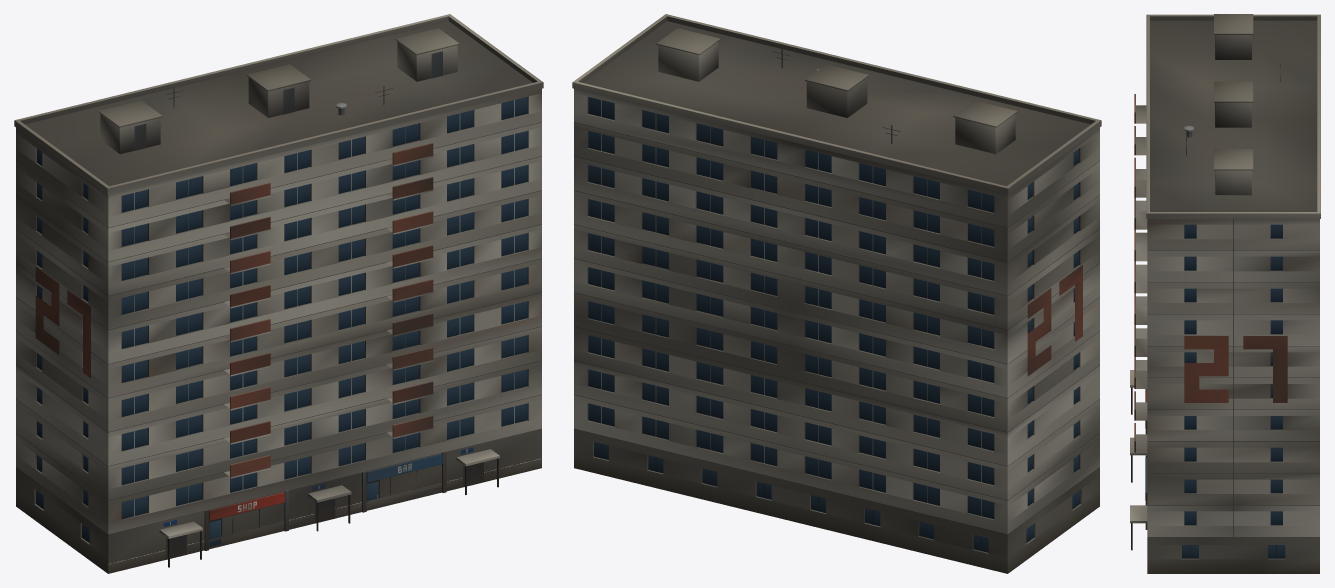
Rendered from building_c.glb.
3 renders of one model, left to right at view 1: azimuth 30°, elevation 25°; view 2: azimuth 150°, elevation 25°; view 3: azimuth 270°, elevation 25°, orthographic. The views are drawn at different scales.
Parts seen in each view (by area): view 1: Building; view 2: Building; view 3: Building.
Part boxes in pixels (left/top/right/bottom): Building: left=14, top=14, right=543, bottom=573; Building: left=572, top=14, right=1101, bottom=573; Building: left=1130, top=14, right=1320, bottom=573.
Size of the model in its own units: 38.16 by 34.32 by 15.48.
